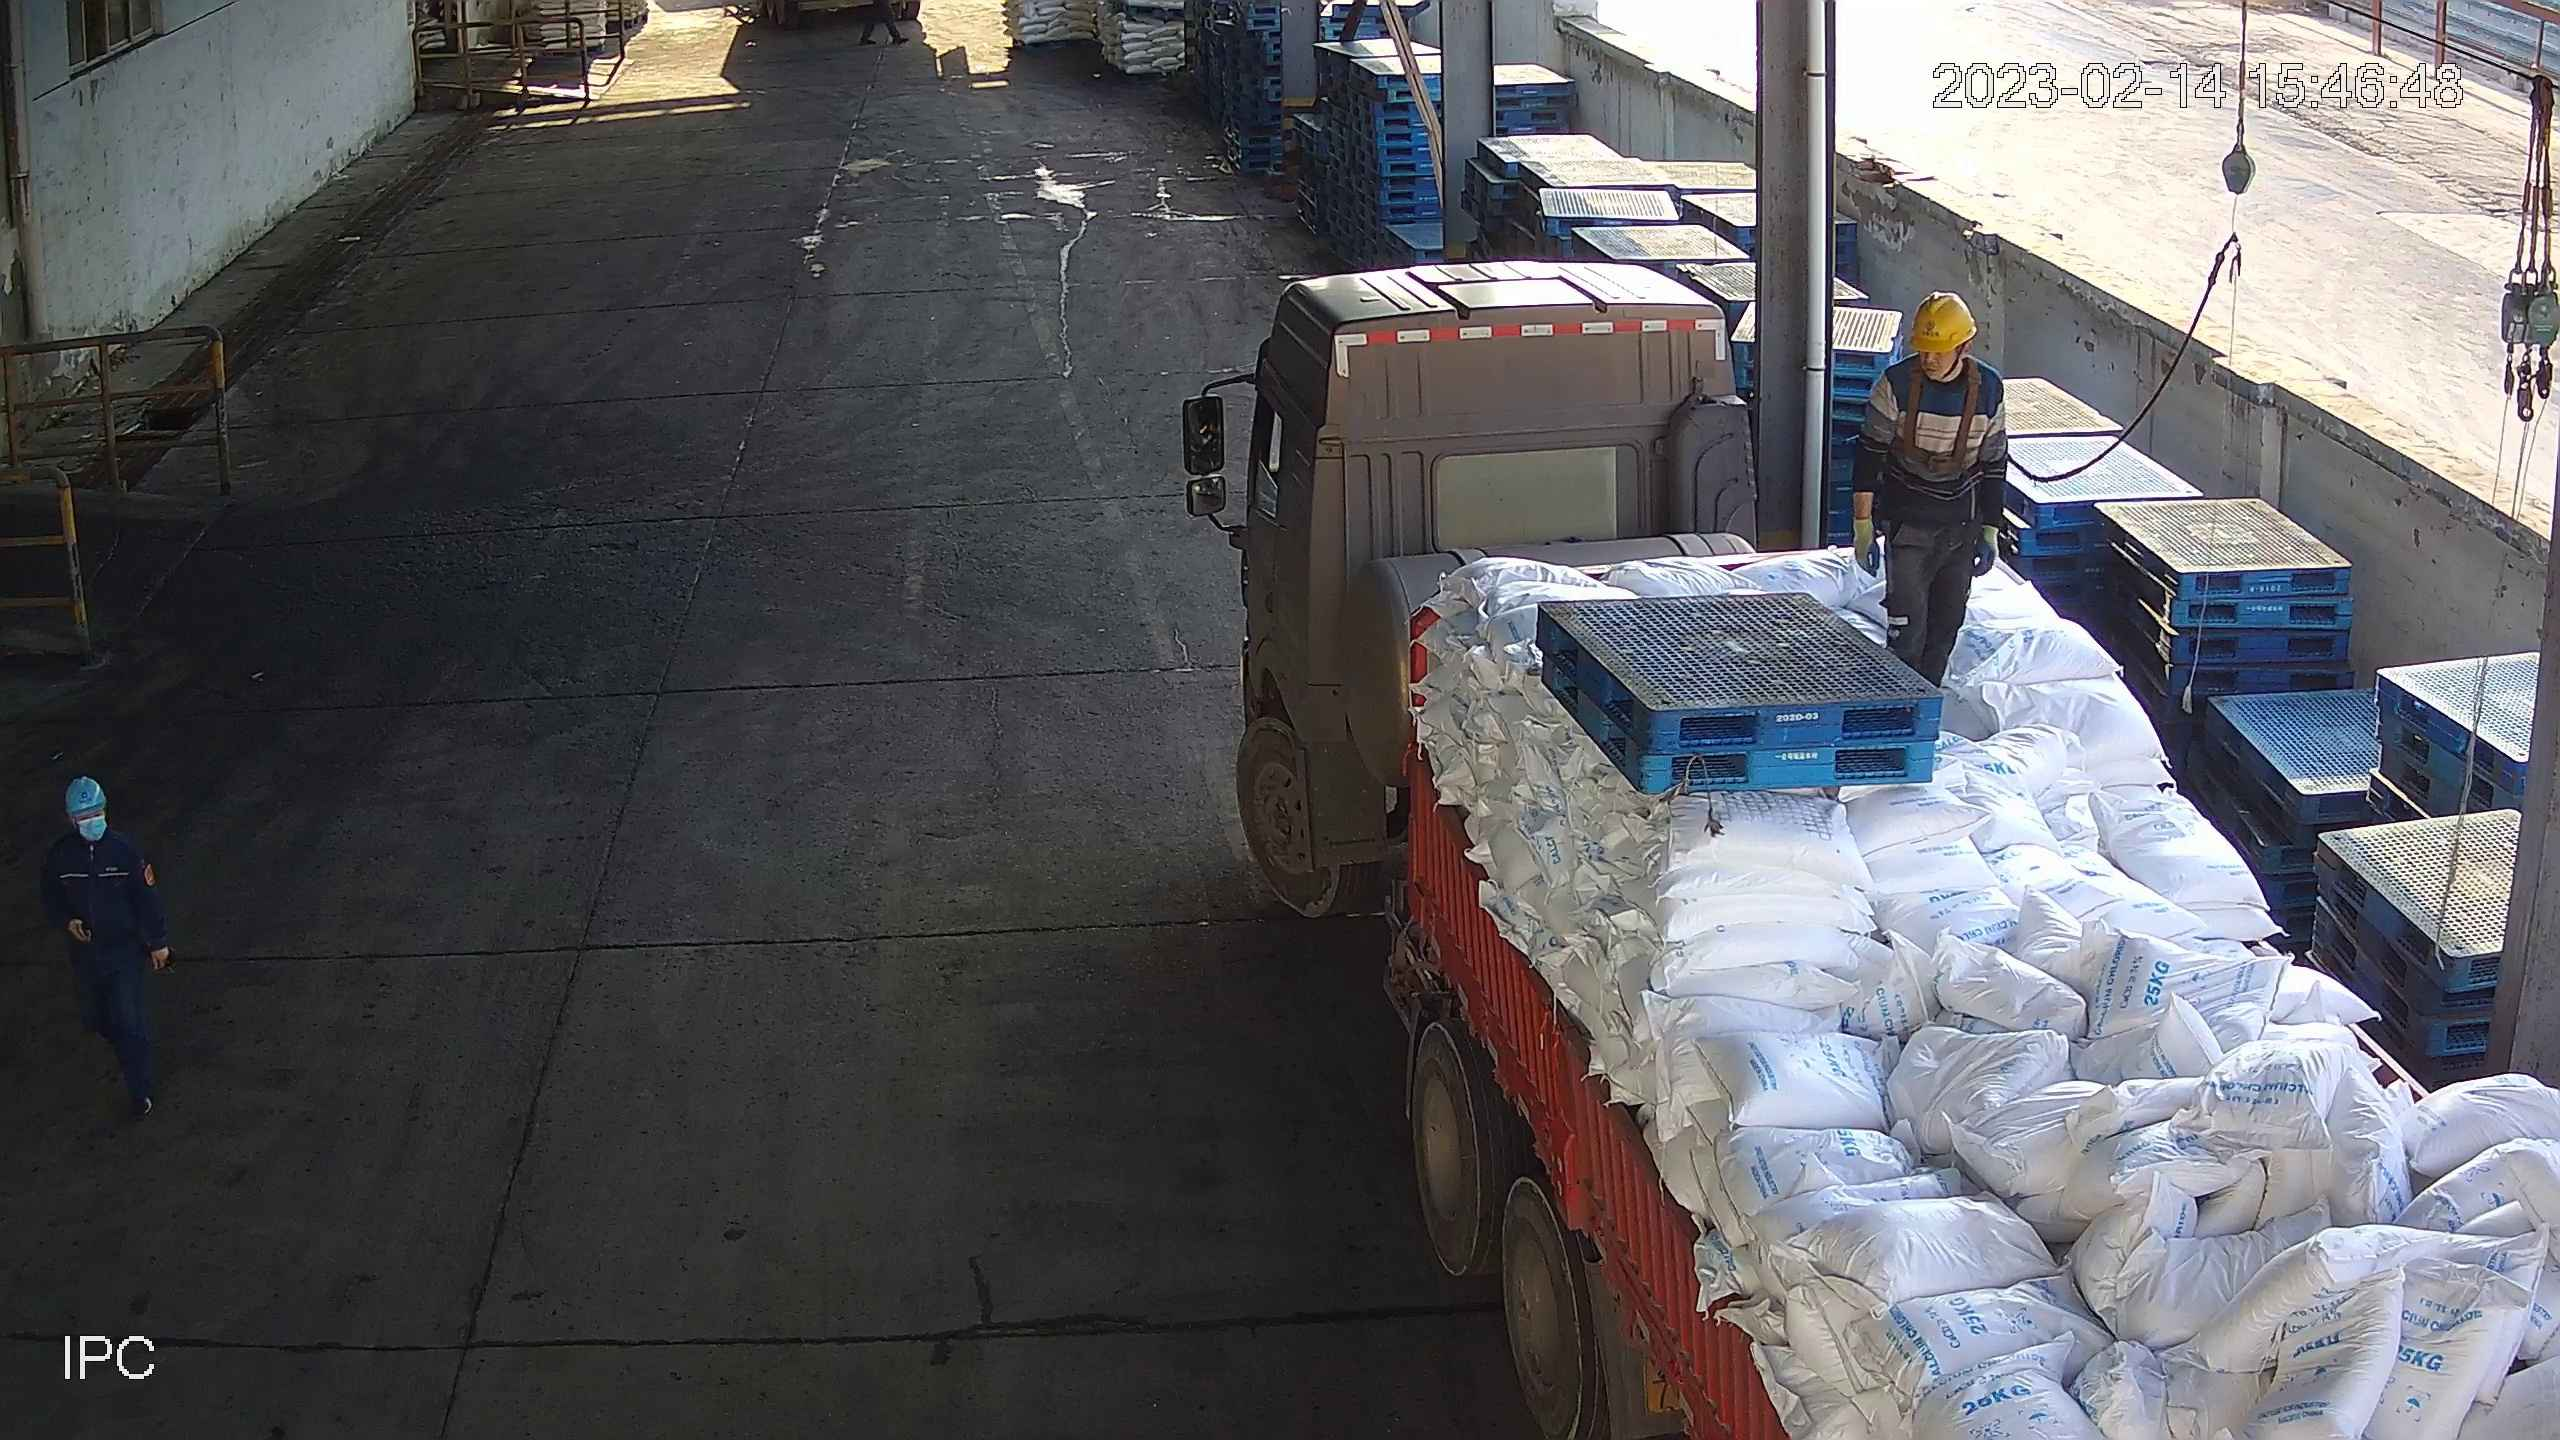belt: (1891, 349, 2026, 481)
head: (1866, 289, 2009, 414), (48, 775, 146, 866)
helmet: (1906, 288, 1978, 356), (62, 775, 111, 815)
people: (1857, 288, 2017, 697), (40, 772, 182, 1123)
truck: (1231, 256, 2560, 1440)
